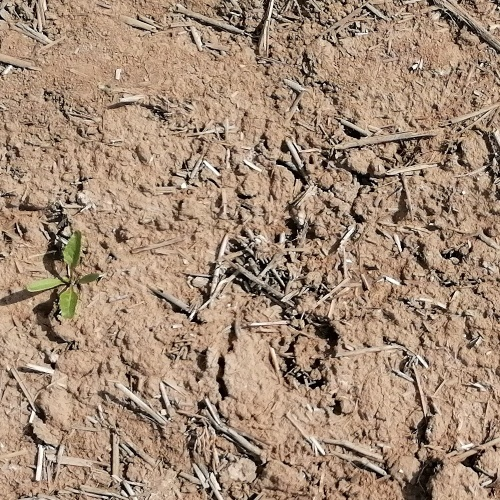beet: (26, 230, 100, 319)
